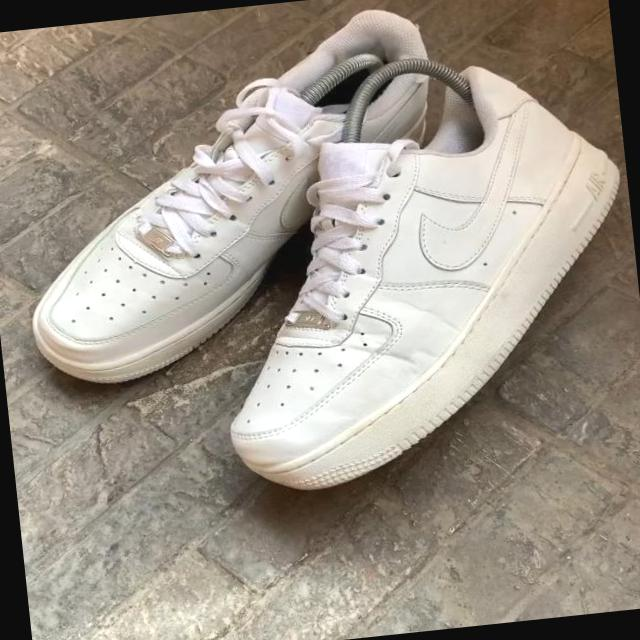nike_fake_airforce: (186, 40, 640, 501), (0, 13, 469, 397)
